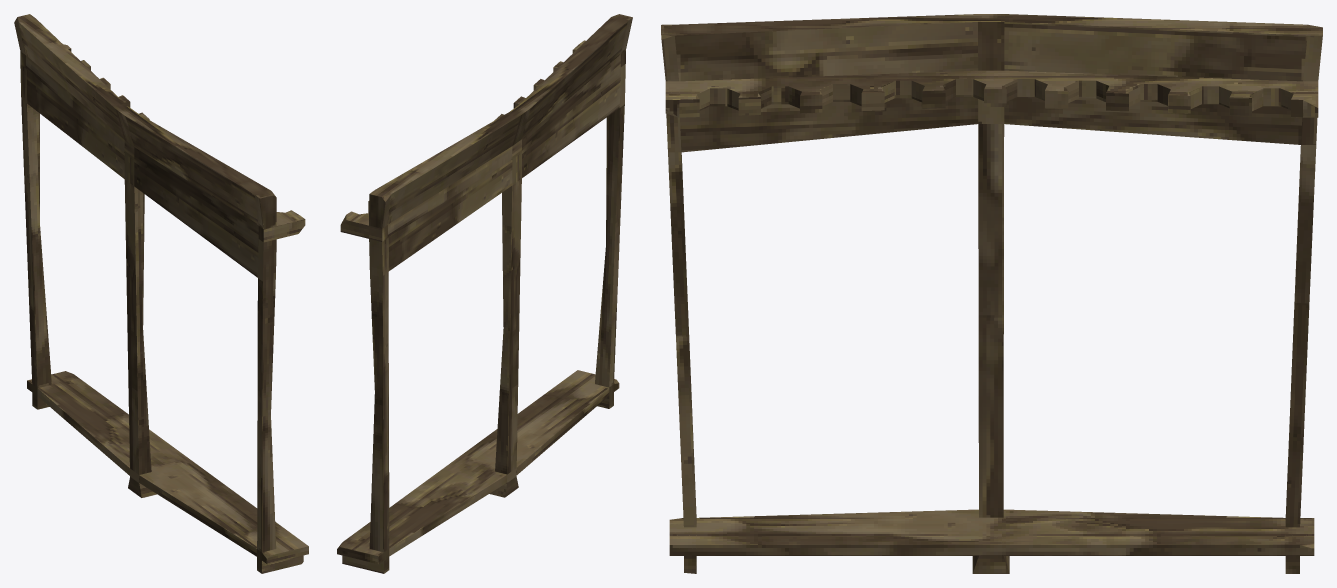
Rendered from spearrack.fbx.
3 renders of one model, left to right at view 1: azimuth 30°, elevation 25°; view 2: azimuth 150°, elevation 25°; view 3: azimuth 270°, elevation 25°, orthographic. The views are drawn at different scales.
Visible parts, largest first — view 1: Spear Rack; view 2: Spear Rack; view 3: Spear Rack.
Part boxes in pixels (bbox=[...]): Spear Rack: bbox=[14, 14, 308, 573]; Spear Rack: bbox=[337, 14, 632, 573]; Spear Rack: bbox=[661, 14, 1322, 573].
Bounding box in the file's own units: 329 × 1764 × 2053.
